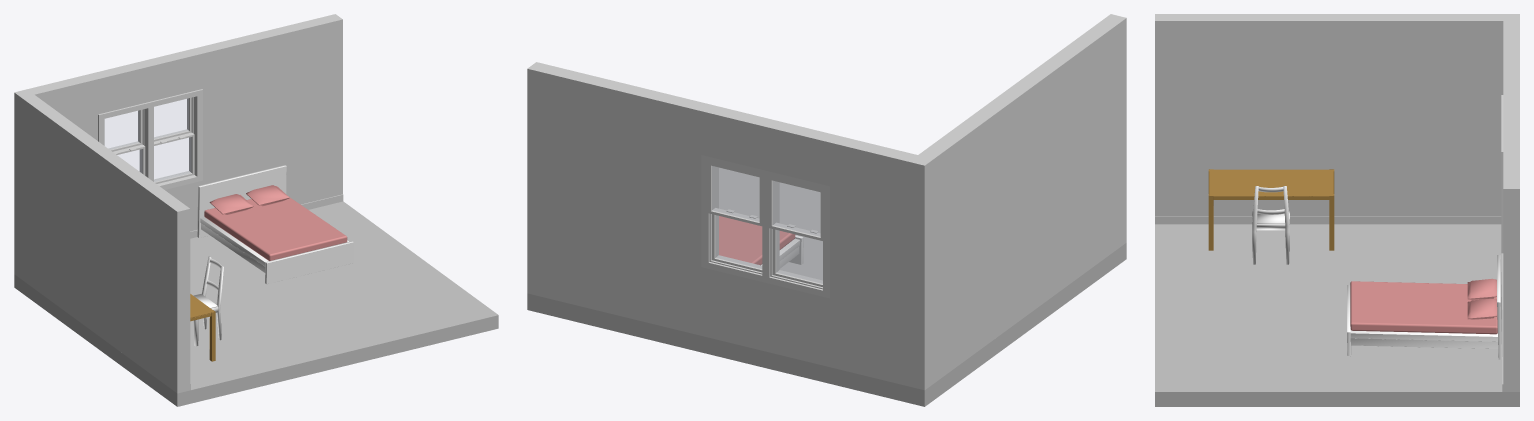
File: L14_W16_furniture2_privacy3.glb
3 views of the same model, side by side, from view 1: azimuth 30°, elevation 25°; view 2: azimuth 150°, elevation 25°; view 3: azimuth 270°, elevation 25° (orthographic). The views are drawn at different scales.
Size of the model in its own units: 200 by 116 by 176.
